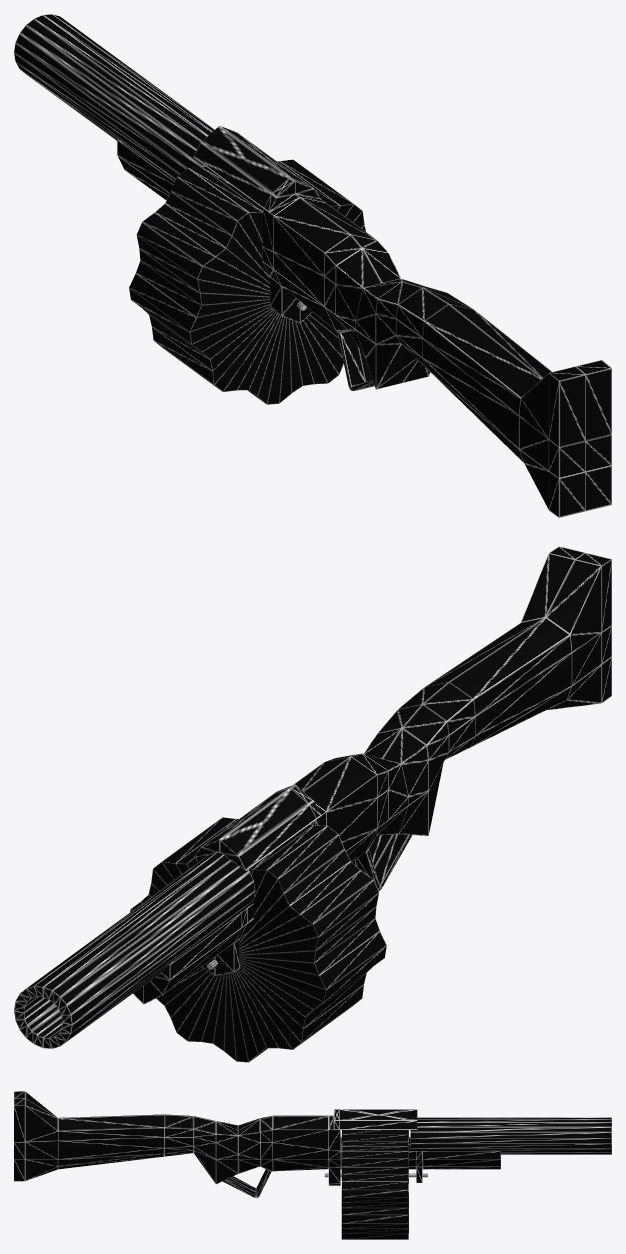
Rendered from weapon2.fbx.
3 views of the same model, one above another, from view 1: azimuth 30°, elevation 25°; view 2: azimuth 150°, elevation 25°; view 3: azimuth 270°, elevation 25° (orthographic). The views are drawn at different scales.
Parts seen in each view (by area): view 1: pCube5; view 2: pCube5; view 3: pCube5.
Boxes of the visible parts, x1=… form: pCube5: x1=14, y1=14, x2=611, y2=517; pCube5: x1=14, y1=546, x2=611, y2=1062; pCube5: x1=14, y1=1091, x2=611, y2=1239.
Bounding box in the file's own units: 0.1122 × 0.133 × 0.5331.
